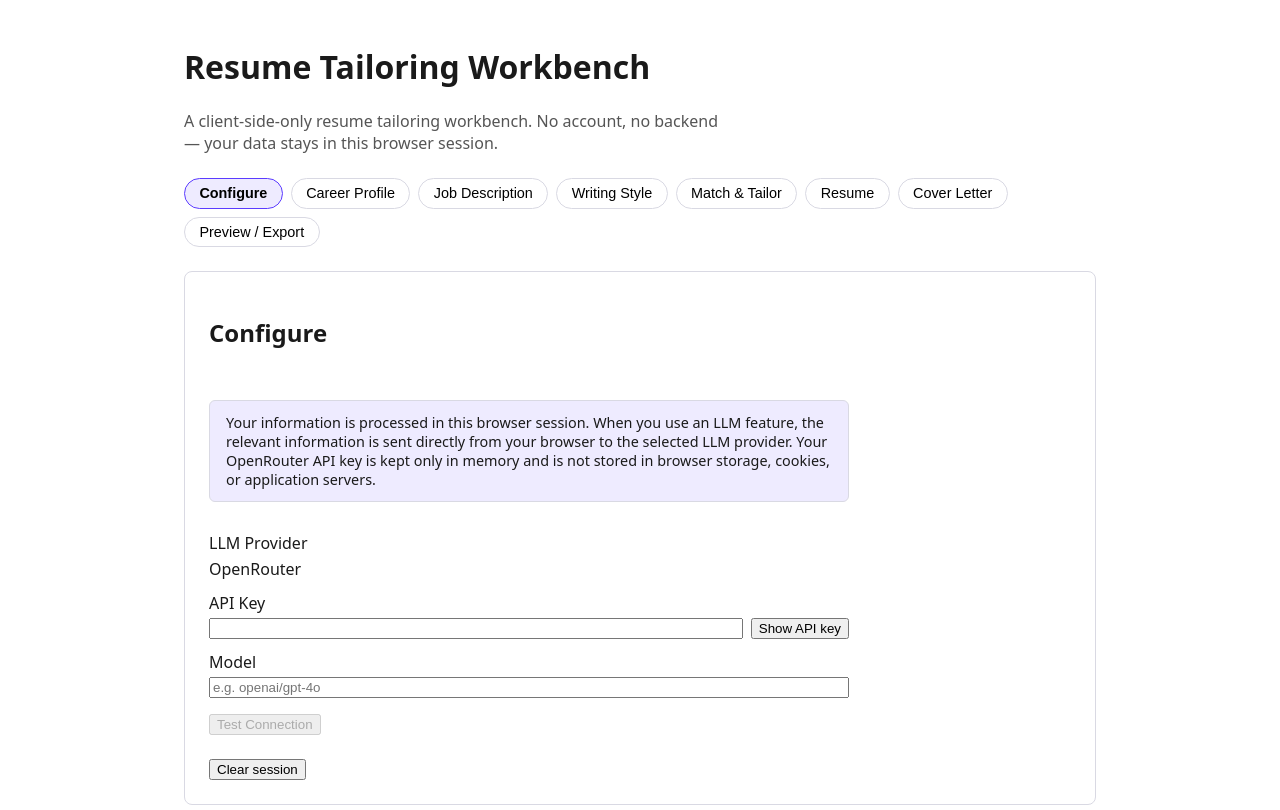
Test case: workflow navigation › navigates between workflow steps when a nav button is clicked
Expected: the heading "Configure" is shown, x1=209 y1=316 x2=327 y2=349
Click the button "Job Description".
click(483, 193)  # box x1=418 y1=178 x2=548 y2=209
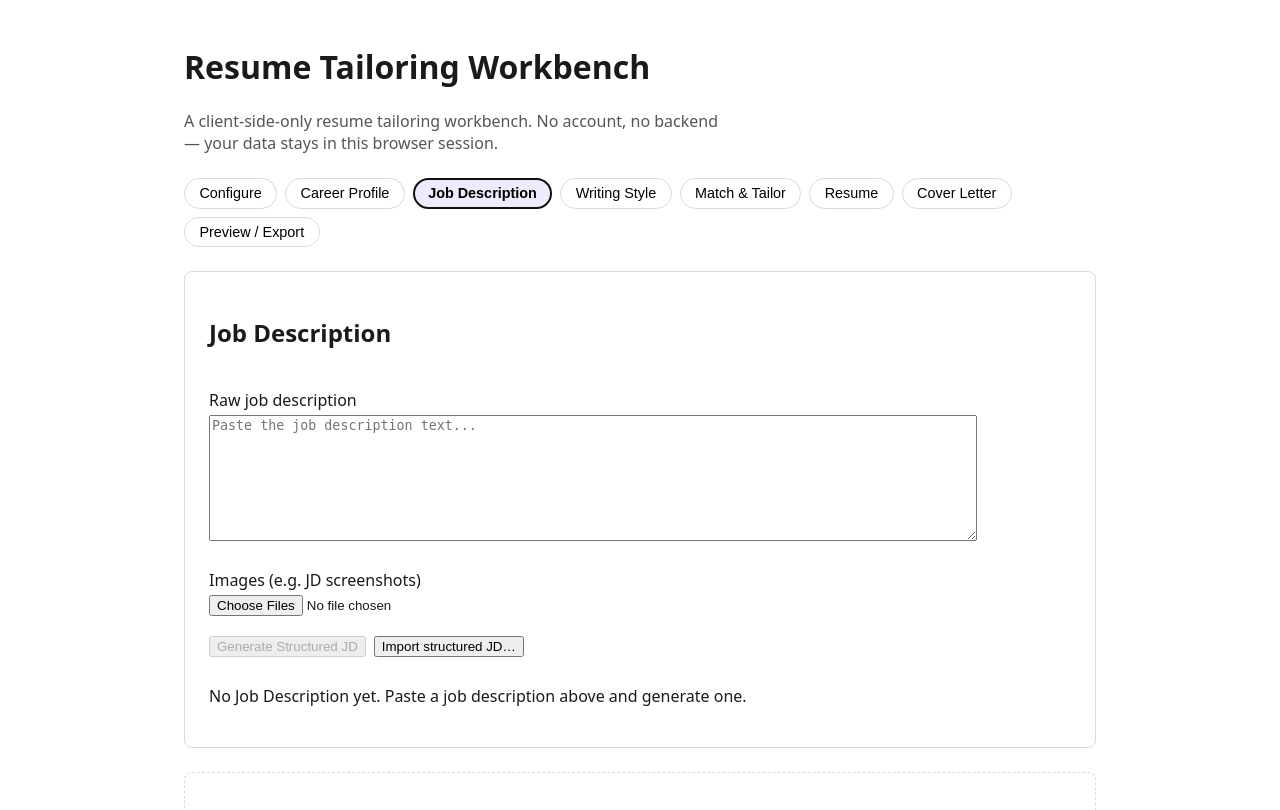
Now the heading "Job Description" is shown, box x1=209 y1=316 x2=391 y2=349
Click the button "Cover Letter".
click(957, 193)  # box x1=902 y1=178 x2=1012 y2=209
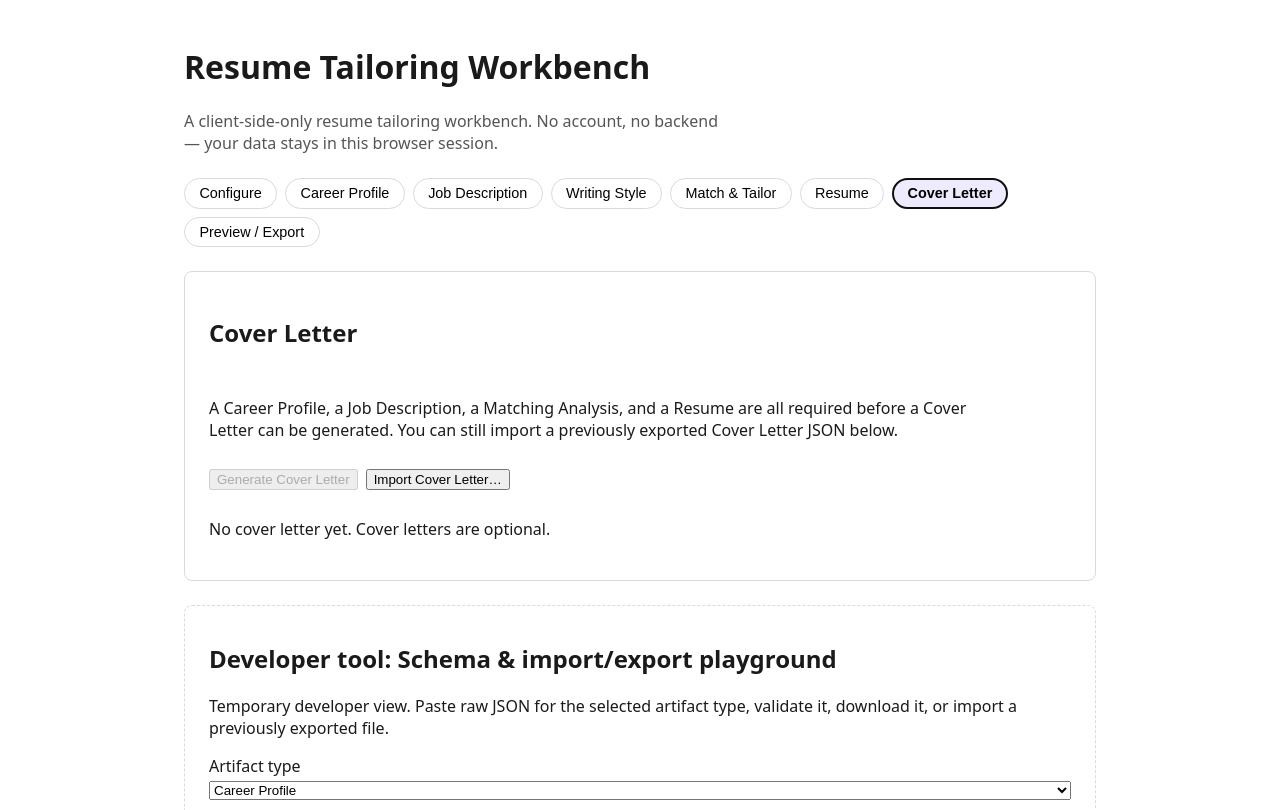
Now the heading "Cover Letter" is shown, box x1=209 y1=316 x2=357 y2=349
